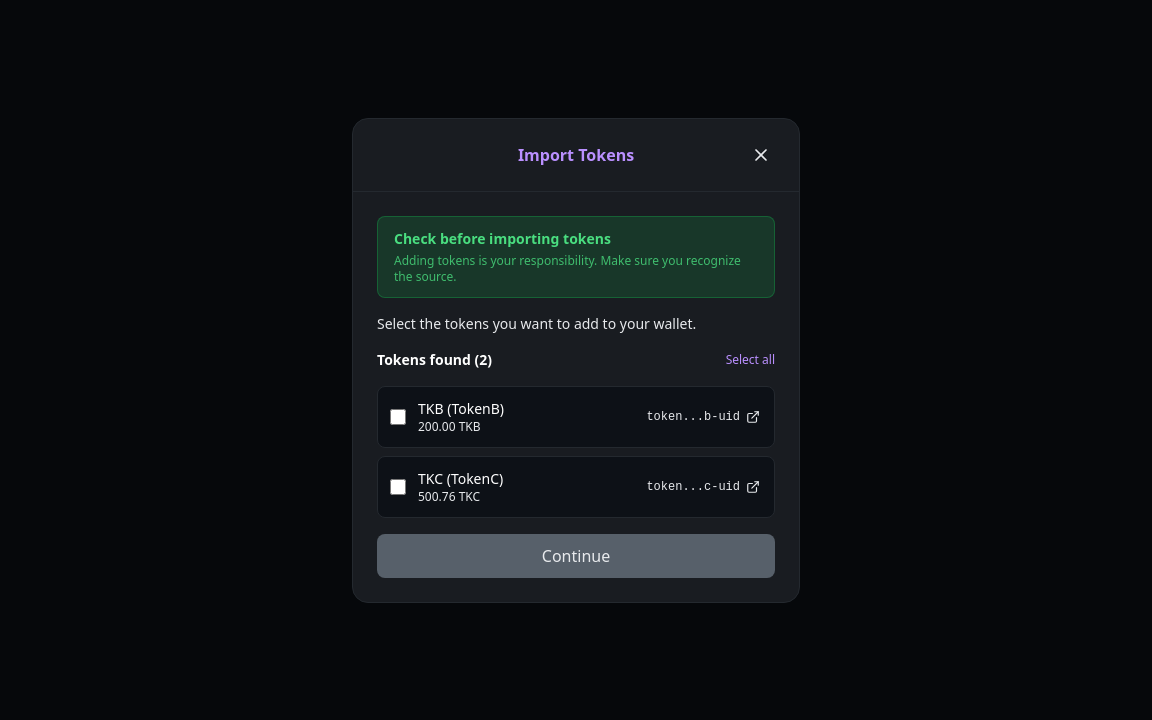
Scenario: ImportTokensDialog › should show confirm step after selecting tokens and clicking Continue
Check: the text "TKB (TokenB)" is shown, box 418,398 -> 504,418
Note: Select a token
Click the checkbox labelled "TKB (TokenB) 200.00 TKB token...b-uid" at x=398, y=416, box 390,408 -> 406,424
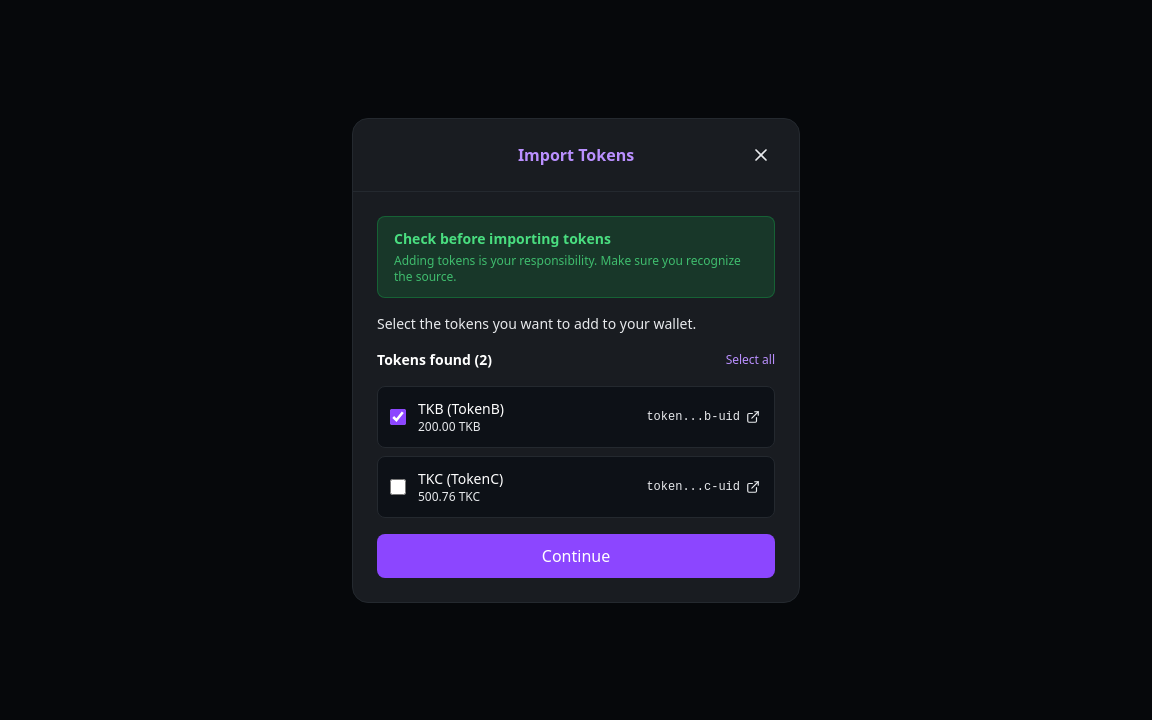
Note: Click Continue
Click the button "Continue" at x=576, y=556, box 377,534 -> 775,578
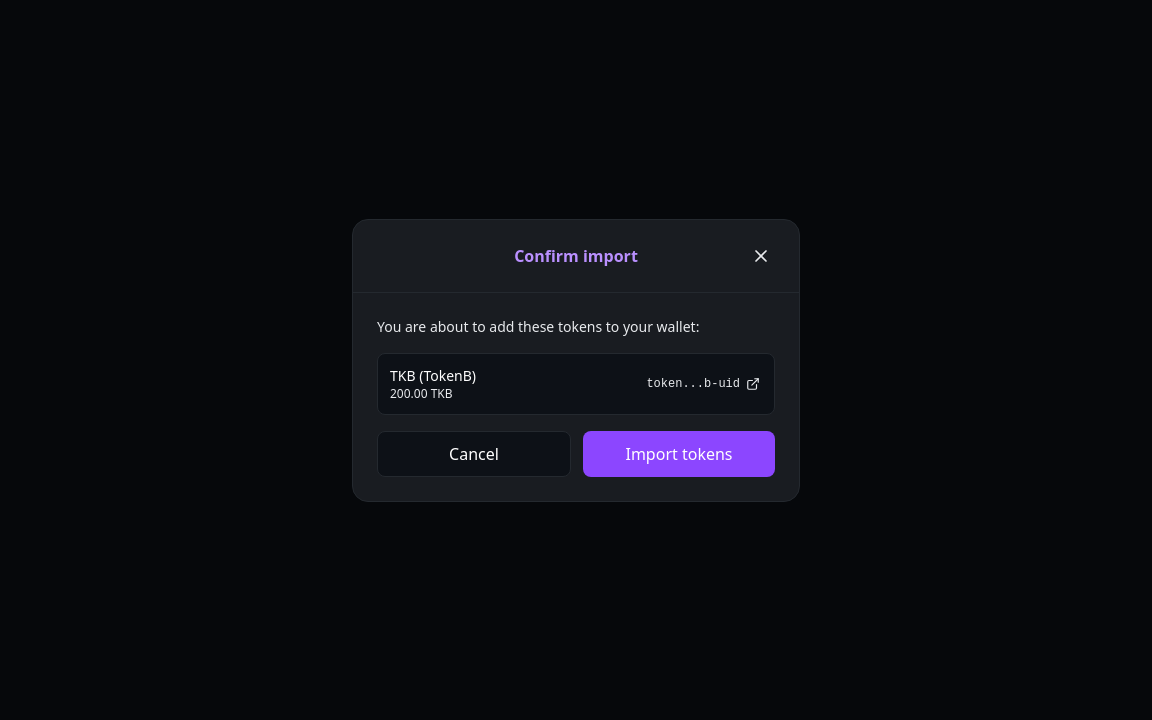
Check: the heading "Confirm import" is shown, box 514,244 -> 638,268
Check: the text "You are about to add these tokens to your wallet:" is shown, box 377,316 -> 699,336
Check: the button "Cancel" is shown, box 377,430 -> 571,476
